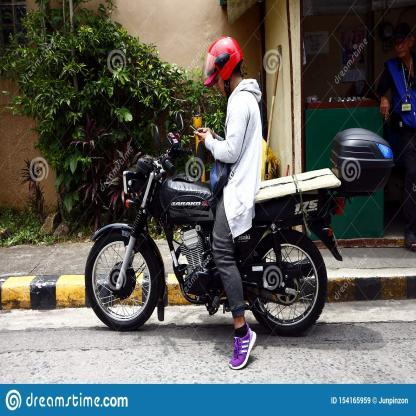helmet: (202, 34, 245, 99)
